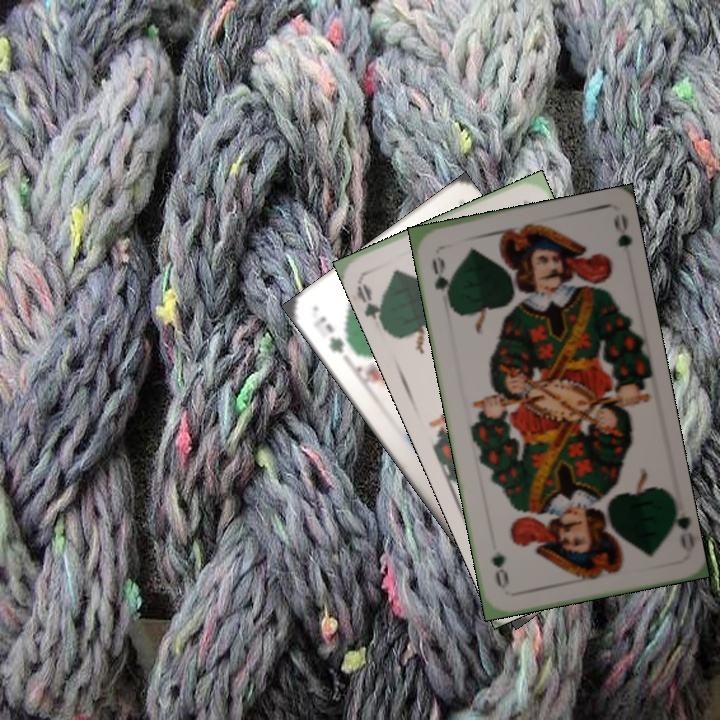GK: (309, 312, 347, 356)
GO: (352, 277, 387, 332), (664, 497, 691, 554), (428, 252, 454, 305)
